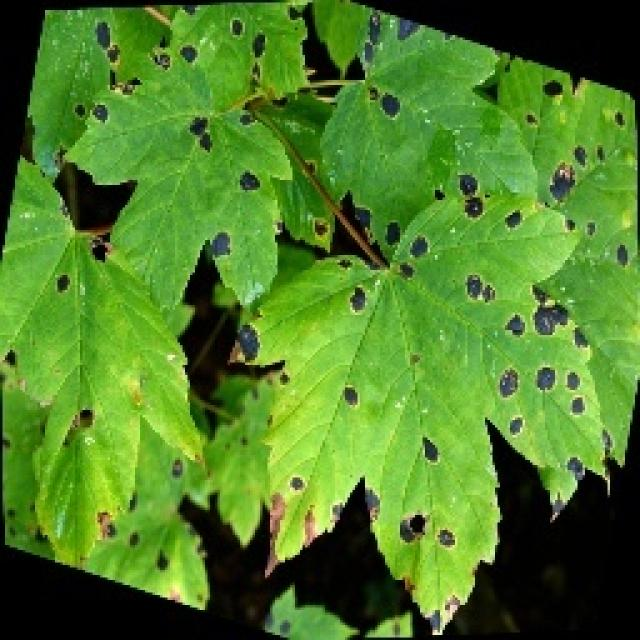Tar_Spot: (25, 11, 640, 629)
